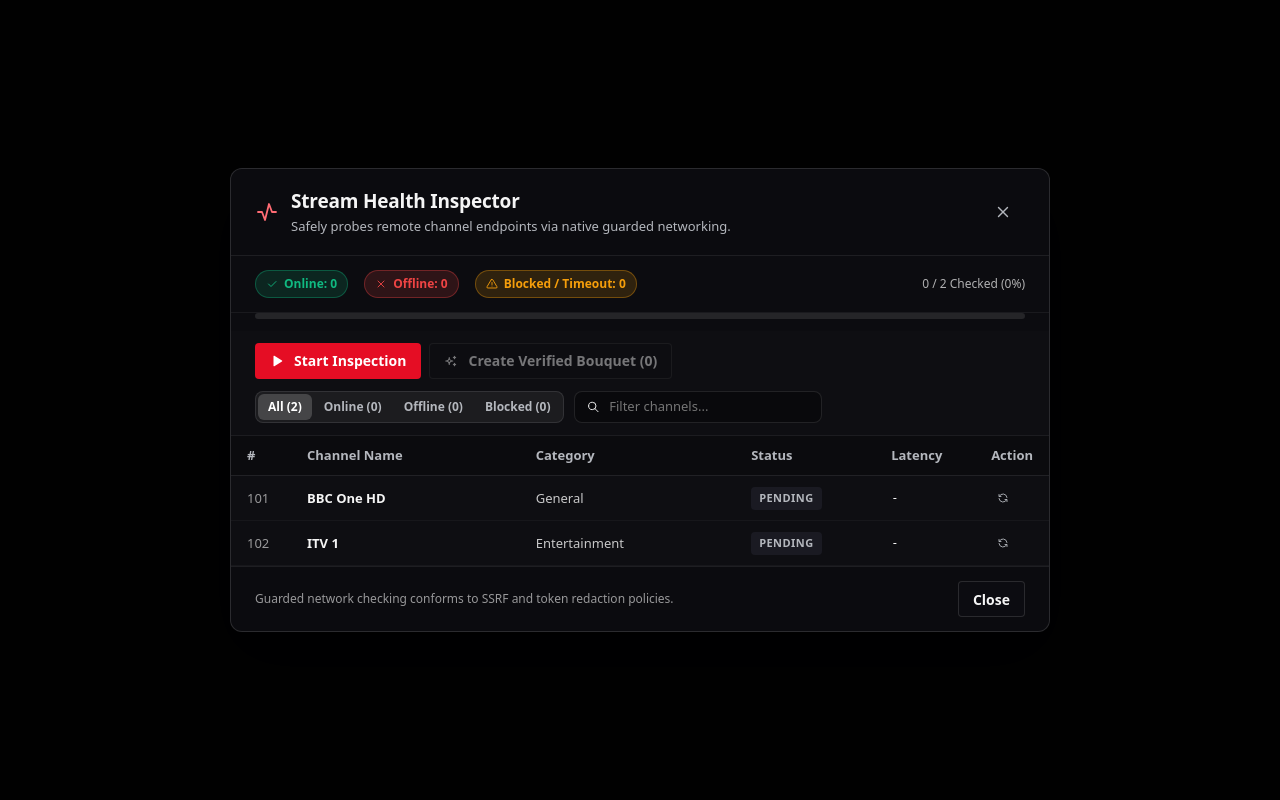
Test case: StreamCheckerModal › creates verified bouquet when Create Verified Bouquet is clicked
Later steps or results of the test are not shown.
Click the button "Start Inspection" at (338, 361), box [255,343,422,379]
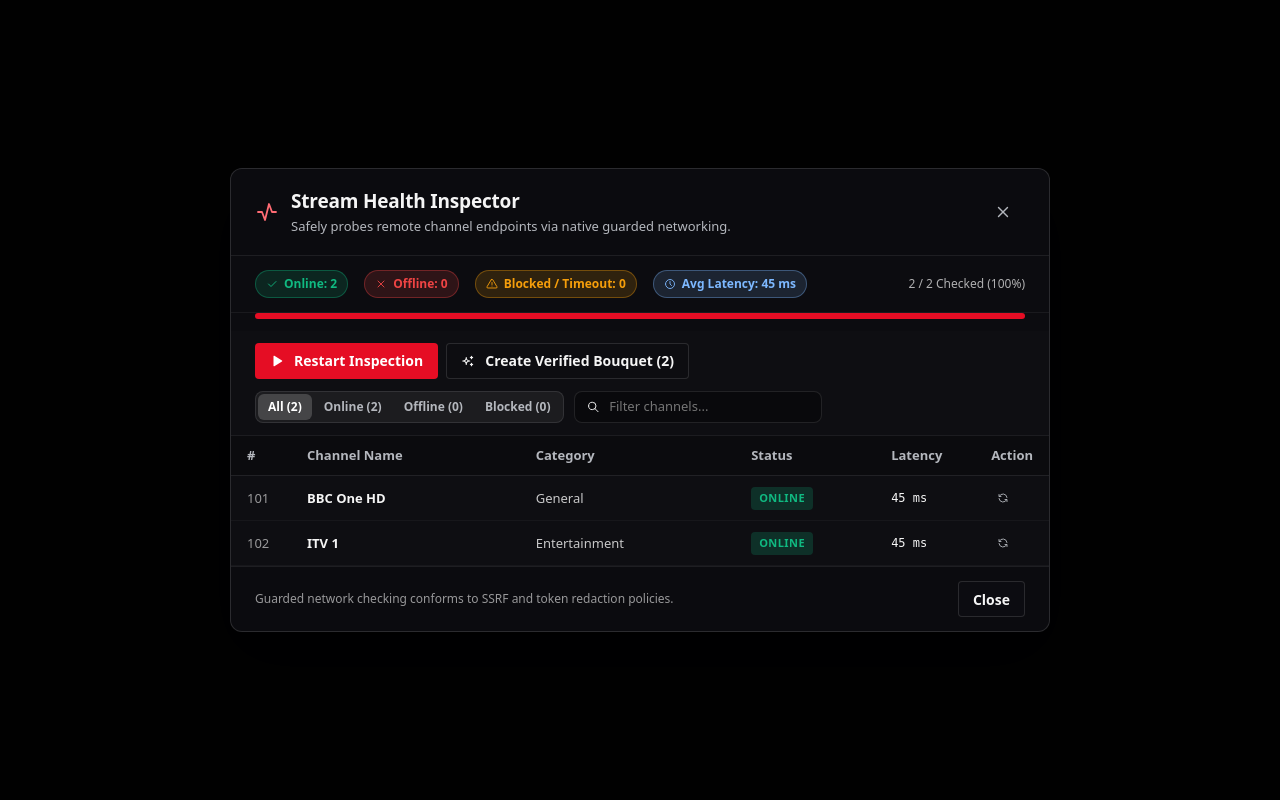
expect the button "Create Verified Bouquet (2)" is enabled: met, box [446,343,689,379]
